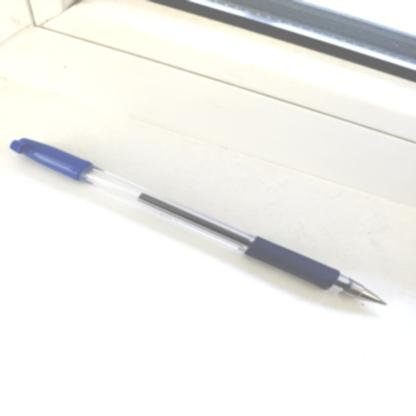pen: (12, 126, 395, 324)
